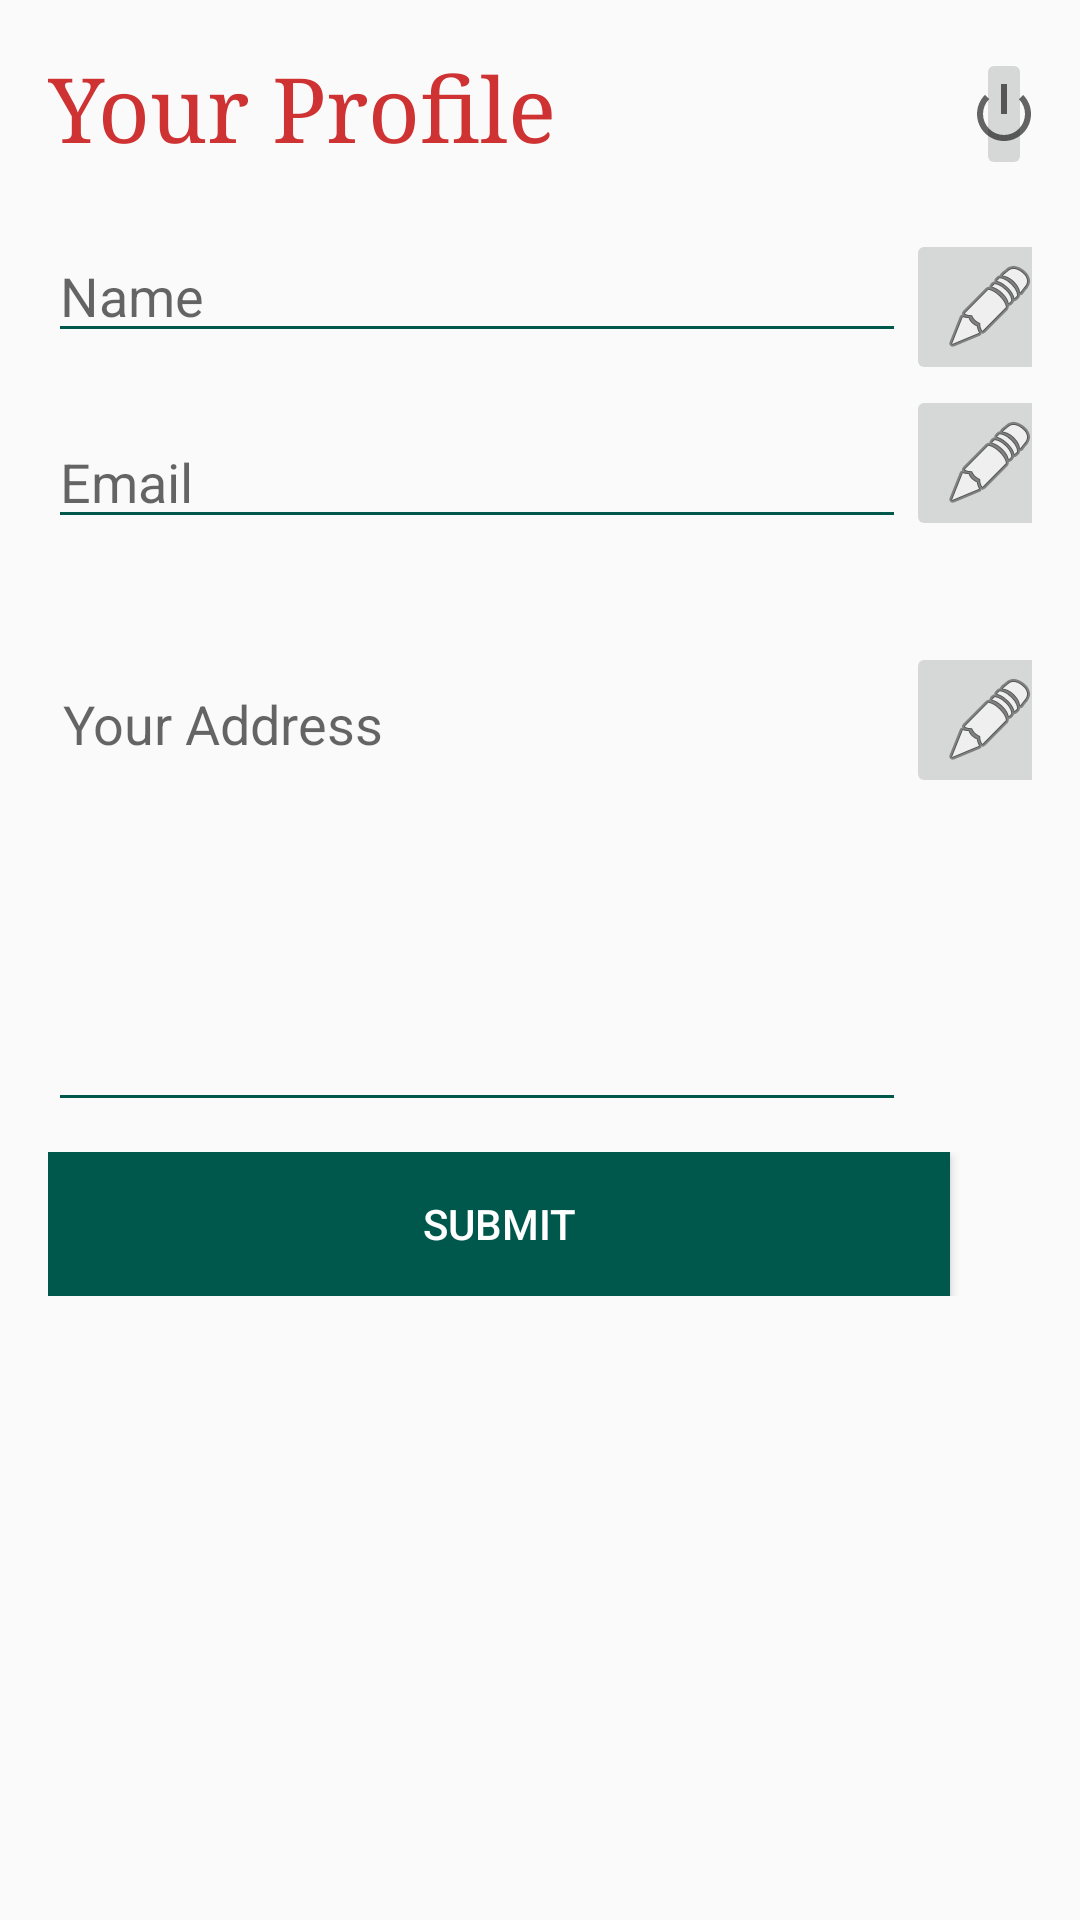

Icon bounding boxes for this 1080x1920 phone screenshot, format (x1, y1, x2, y2):
lock power off: (977, 66, 1031, 162)
